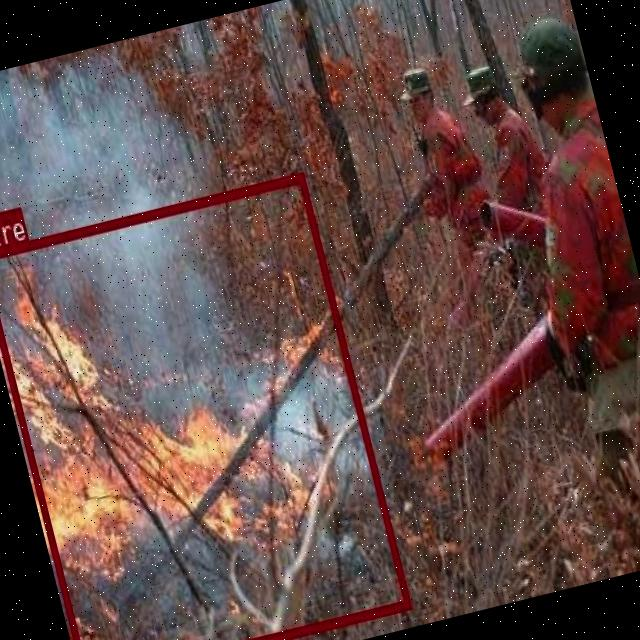fire: (0, 171, 409, 640)
